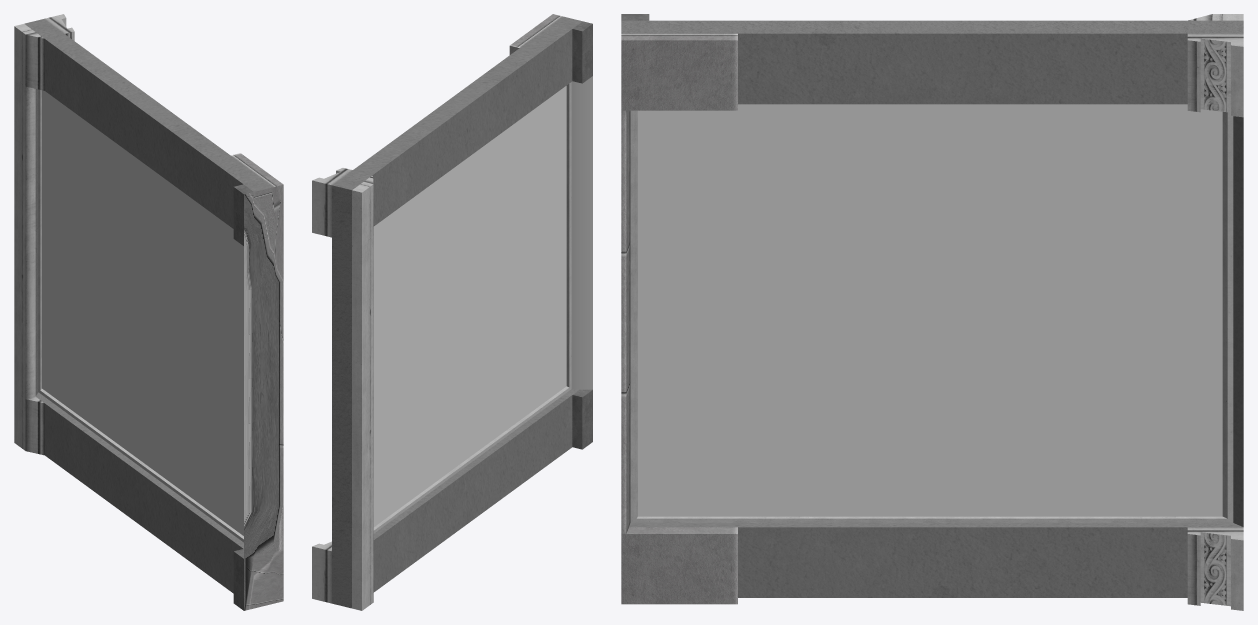
File: A_wall_ 4m_huge_window.fbx
3 views of the same model, side by side, from view 1: azimuth 30°, elevation 25°; view 2: azimuth 150°, elevation 25°; view 3: azimuth 270°, elevation 25° (orthographic). The views are drawn at different scales.
Visible parts, largest first — view 1: A_glass_013, A_wall__4m_huge_window; view 2: A_wall__4m_huge_window, A_glass_013; view 3: A_glass_013, A_wall__4m_huge_window.
Boxes of the visible parts, bbox=[...] form: A_glass_013: bbox=[42, 90, 243, 535]; A_wall__4m_huge_window: bbox=[14, 14, 283, 610]; A_wall__4m_huge_window: bbox=[312, 14, 592, 610]; A_glass_013: bbox=[373, 86, 566, 526]; A_glass_013: bbox=[638, 104, 1222, 516]; A_wall__4m_huge_window: bbox=[621, 14, 1243, 610].
Bounding box in the file's own units: 0.5 × 4 × 4.
